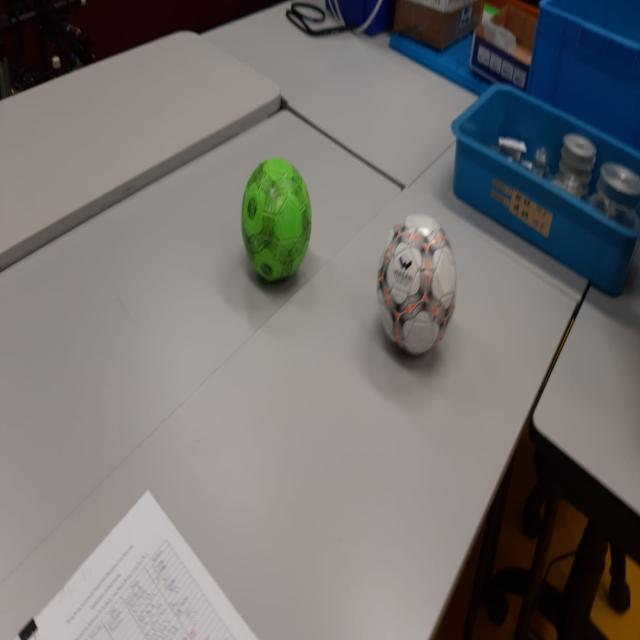ball: (378, 215, 457, 358), (243, 158, 311, 288)
